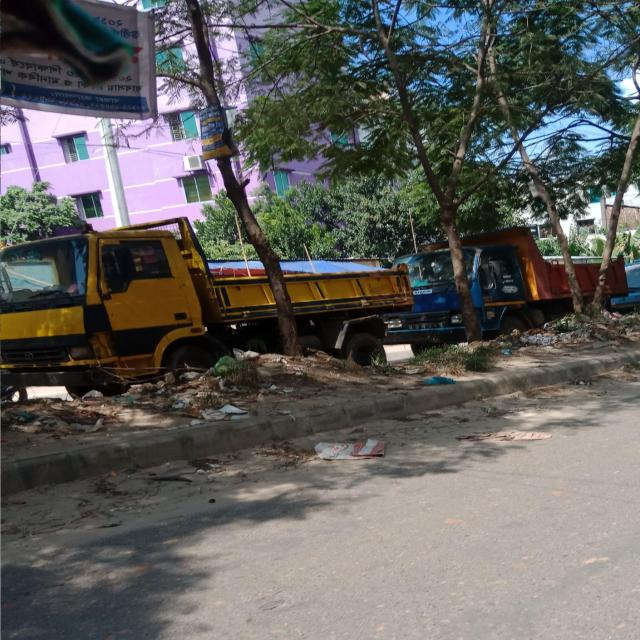truck: (2, 211, 404, 399), (398, 226, 627, 346)
